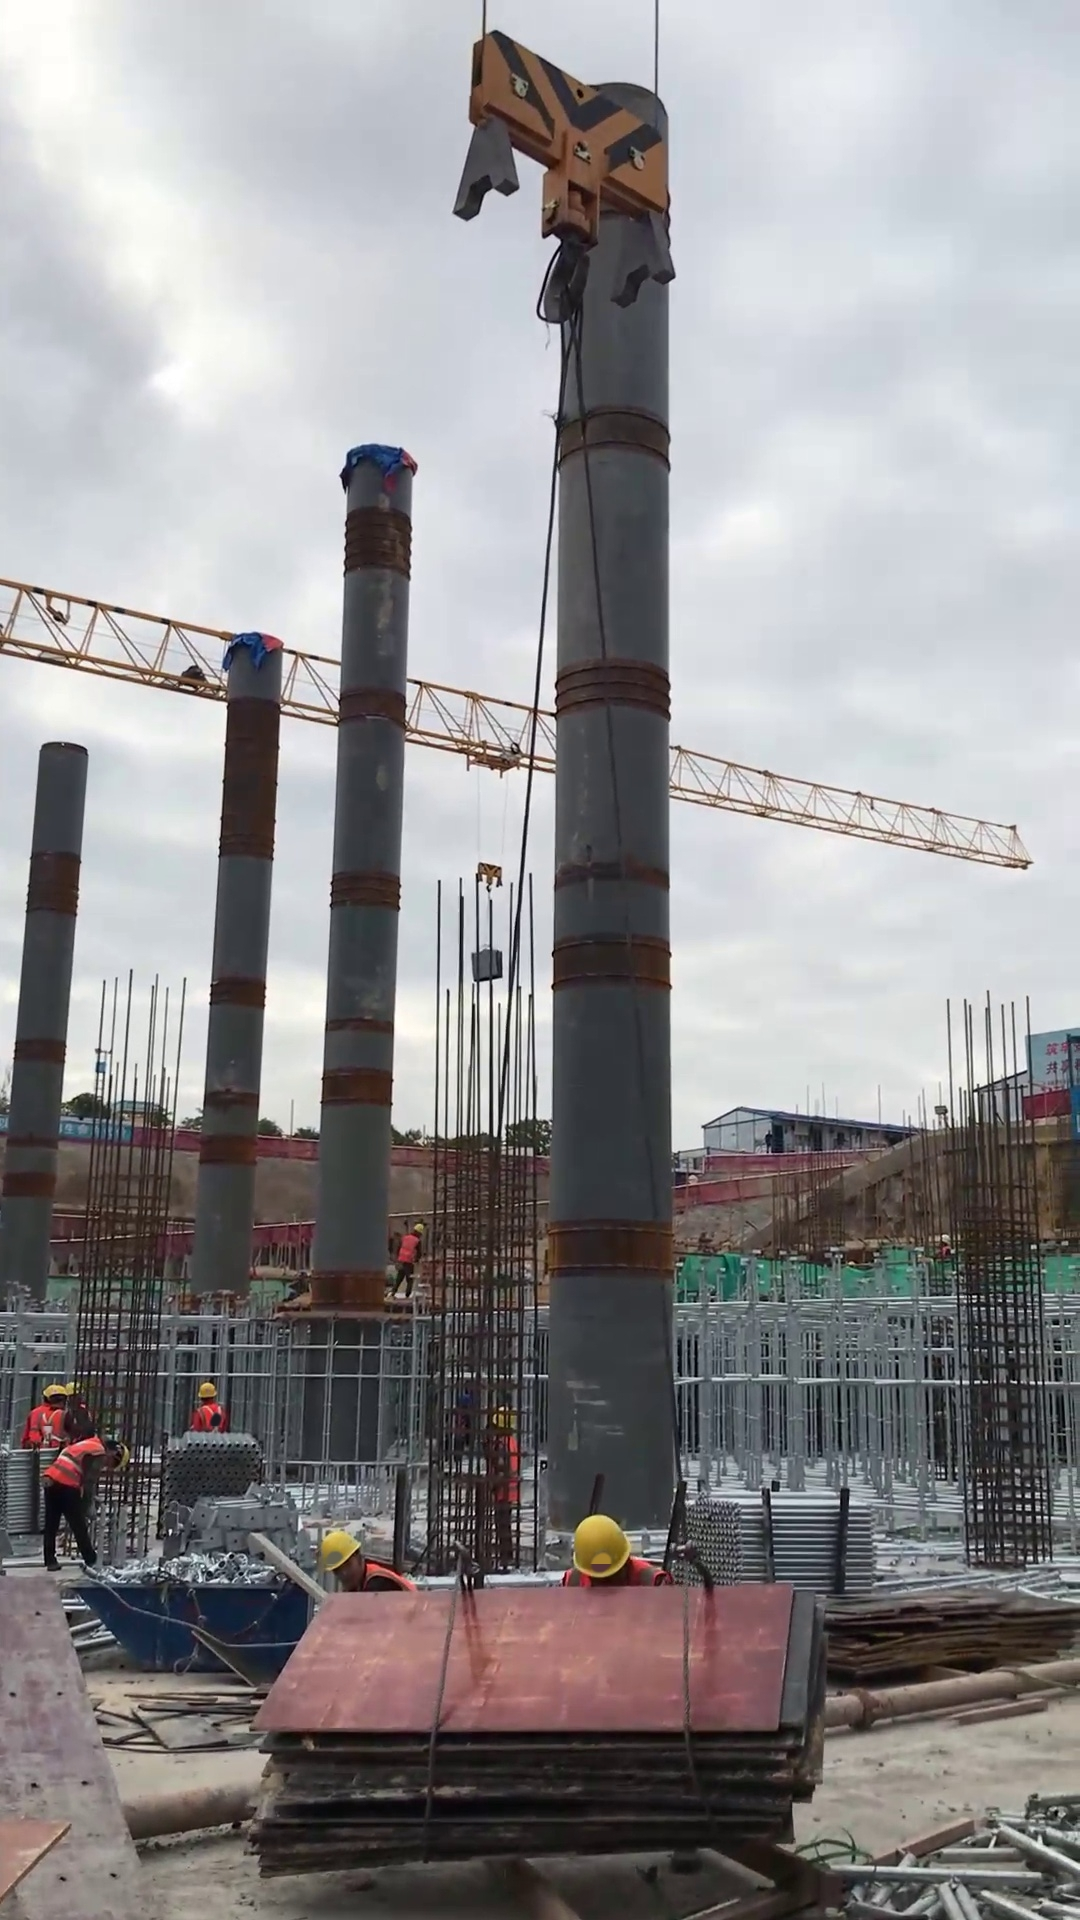board: (253, 1586, 823, 1879), (823, 1588, 1080, 1673)
helmet: (570, 1511, 632, 1579), (317, 1530, 364, 1573), (492, 1403, 519, 1432), (112, 1439, 130, 1472), (41, 1383, 68, 1401), (64, 1381, 87, 1398), (198, 1382, 218, 1400), (413, 1219, 425, 1235), (940, 1230, 953, 1245)
hook: (450, 23, 679, 329), (475, 860, 504, 892)
hopper: (68, 1577, 316, 1678)
person: (40, 1434, 131, 1571), (560, 1511, 676, 1587), (317, 1529, 424, 1593), (488, 1403, 522, 1574), (24, 1380, 91, 1446), (388, 1218, 427, 1299), (190, 1382, 228, 1435)
scaffold: (671, 1487, 881, 1597), (155, 1430, 266, 1505), (1, 1445, 61, 1534)
slogan: (57, 1119, 133, 1148), (1038, 1033, 1080, 1079)
vest: (39, 1435, 107, 1489), (562, 1555, 673, 1586), (492, 1432, 522, 1505), (360, 1562, 419, 1592), (38, 1406, 71, 1447), (27, 1403, 50, 1445), (196, 1401, 226, 1433), (395, 1233, 419, 1264)
